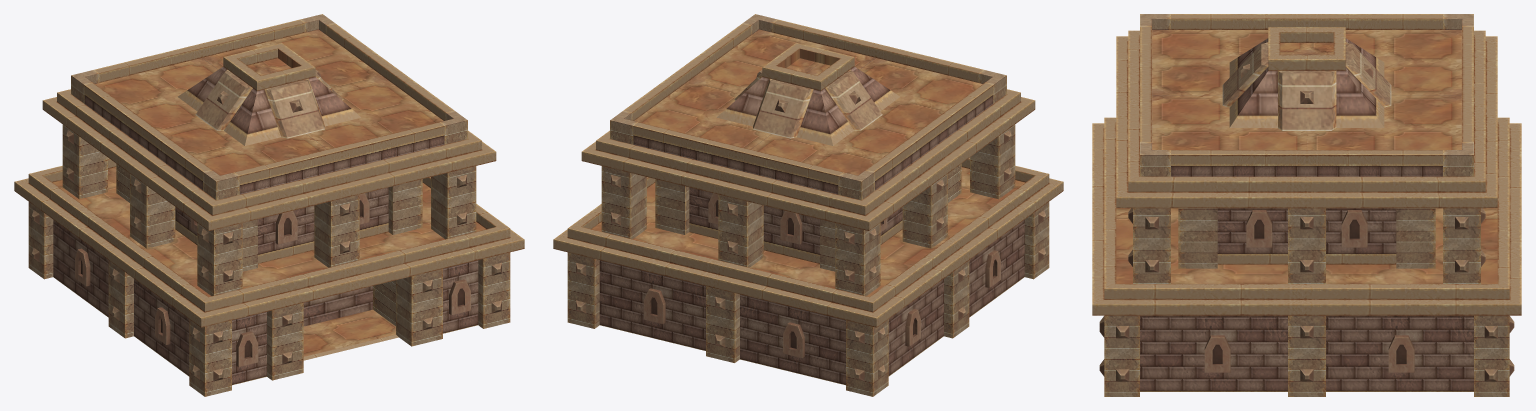
File: Labyrinth.fbx
The picture shows the model from 3 angles, left to right: view 1: azimuth 30°, elevation 25°; view 2: azimuth 150°, elevation 25°; view 3: azimuth 270°, elevation 25°; orthographic projection. The views are drawn at different scales.
Visible parts, largest first — view 1: labyrinth; view 2: labyrinth; view 3: labyrinth.
Boxes of the visible parts, left/top/right/bottom form: labyrinth: left=14, top=14, right=524, bottom=396; labyrinth: left=553, top=14, right=1063, bottom=396; labyrinth: left=1092, top=14, right=1521, bottom=396.
Size of the model in its own units: 9 by 6.2 by 9.
